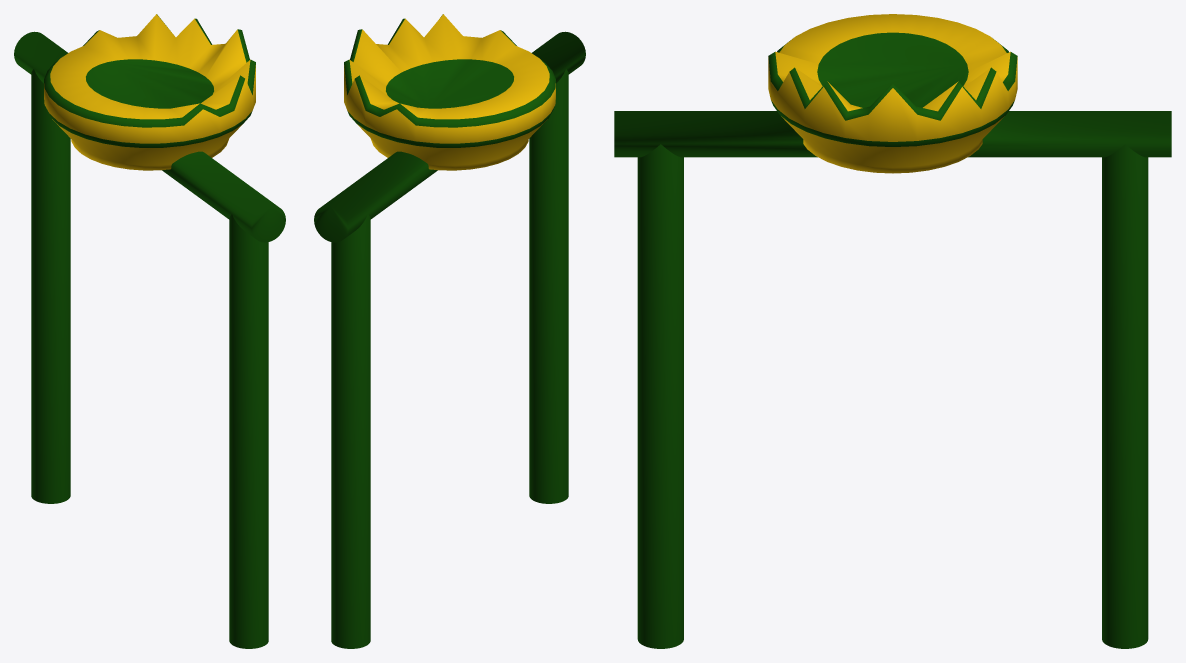
Rendered from Kale1.fbx.
3 views of the same model, side by side, from view 1: azimuth 30°, elevation 25°; view 2: azimuth 150°, elevation 25°; view 3: azimuth 270°, elevation 25° (orthographic). The views are drawn at different scales.
Visible parts, largest first — view 1: kolon, taç; view 2: kolon, taç; view 3: kolon, taç.
Boxes of the visible parts, <box> form: kolon: <box>14,31,285,648</box>; taç: <box>44,14,255,170</box>; kolon: <box>314,31,585,648</box>; taç: <box>344,14,555,170</box>; kolon: <box>614,111,1171,648</box>; taç: <box>768,14,1017,173</box>.
Bounding box in the file's own units: 268 × 721 × 600.
